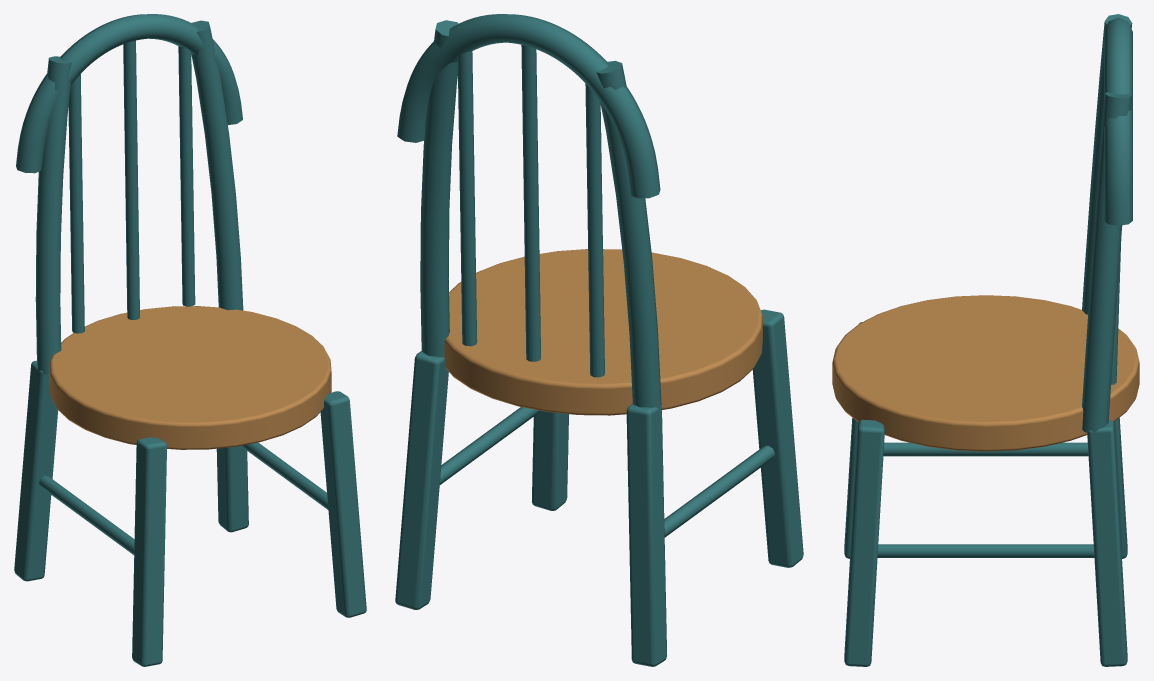
The model's file is PR_Chair.glb.
The picture shows the model from 3 angles, left to right: view 1: azimuth 30°, elevation 25°; view 2: azimuth 150°, elevation 25°; view 3: azimuth 270°, elevation 25°; orthographic projection. The views are drawn at different scales.
Parts seen in each view (by area): view 1: PR_Chair_LOD0; view 2: PR_Chair_LOD0; view 3: PR_Chair_LOD0.
Part boxes in pixels (bbox=[...]): PR_Chair_LOD0: bbox=[14, 14, 366, 666]; PR_Chair_LOD0: bbox=[395, 14, 803, 666]; PR_Chair_LOD0: bbox=[832, 14, 1139, 666].
Size of the model in its own units: 0.51 by 1.06 by 0.51.
Materials: 1 (1 with a texture image).
